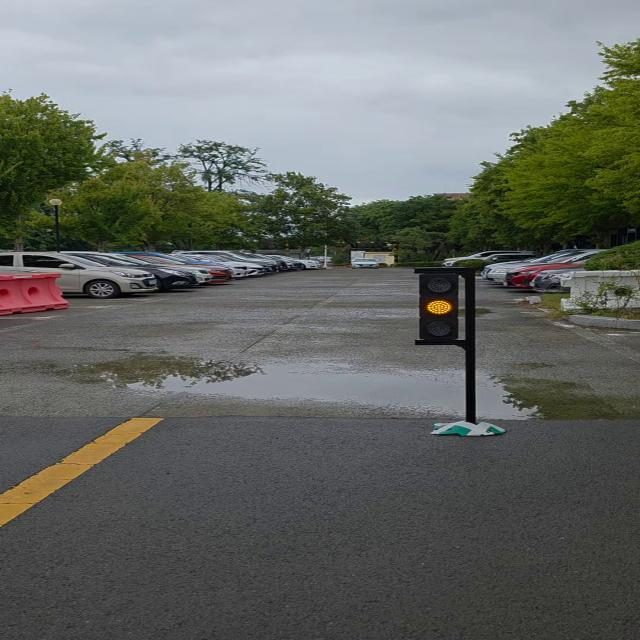yellow: (413, 270, 471, 348)
